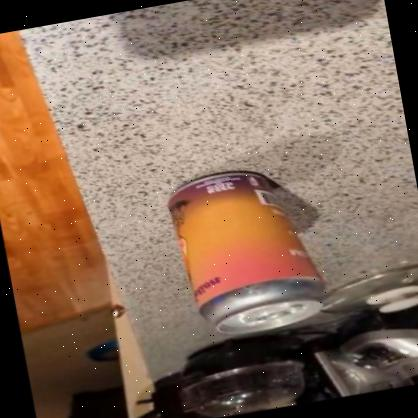can: (160, 157, 332, 348)
